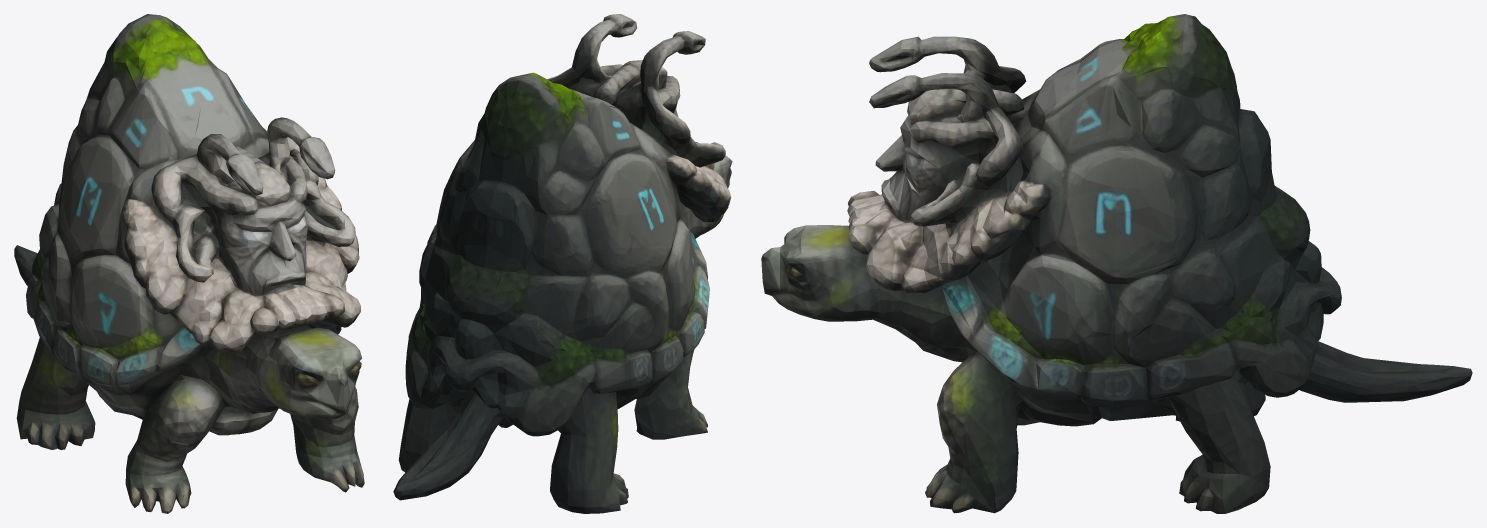
The model's file is shellmund__gorgonShell.glb.
3 views of the same model, side by side, from view 1: azimuth 30°, elevation 25°; view 2: azimuth 150°, elevation 25°; view 3: azimuth 270°, elevation 25° (orthographic). The views are drawn at different scales.
Parts seen in each view (by area): view 1: world; view 2: world; view 3: world.
Part boxes in pixels (x1=…): world: x1=14, y1=14, x2=364, y2=513; world: x1=393, y1=14, x2=732, y2=513; world: x1=761, y1=14, x2=1472, y2=513.
Size of the model in its own units: 0.4168 by 0.6805 by 0.9934.
1 material, 1 textured.
